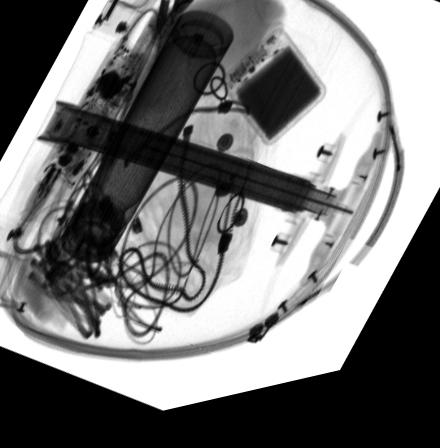Powerbank: (223, 39, 326, 159)
